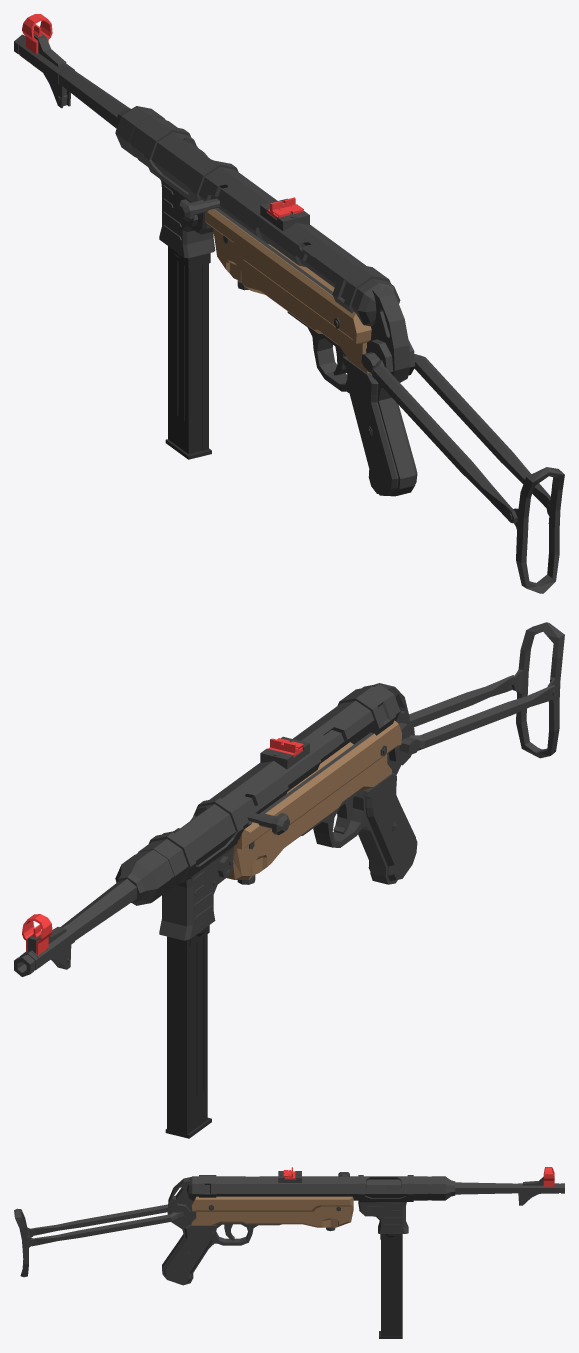
The model's file is subfusil_1.glb.
The picture shows the model from 3 angles, top to bottom: view 1: azimuth 30°, elevation 25°; view 2: azimuth 150°, elevation 25°; view 3: azimuth 270°, elevation 25°; orthographic projection. The views are drawn at different scales.
Parts seen in each view (by area): view 1: p7_paint, p57_mag, p26_accent, p37_paint, p44_paint, p53_paint, p54_paint, p52_paint, p0_paint, p9_paint, p8_paint, p45_paint; view 2: p7_paint, p57_mag, p26_accent, p44_paint, p37_paint, p9_paint, p54_paint, p0_paint, p53_paint, p52_paint, p8_paint, p45_paint (+2 smaller); view 3: p7_paint, p26_accent, p57_mag, p43_paint, p37_paint, p52_paint, p0_paint, p53_paint, p9_paint, p54_paint, p8_paint, p11_paint (+2 smaller).
Boxes of the visible parts, left/top/right/bottom form: p7_paint: left=114, top=106, right=400, bottom=326; p57_mag: left=165, top=246, right=211, bottom=459; p26_accent: left=205, top=209, right=371, bottom=373; p37_paint: left=287, top=285, right=415, bottom=496; p44_paint: left=342, top=356, right=398, bottom=494; p53_paint: left=372, top=359, right=517, bottom=523; p54_paint: left=513, top=467, right=564, bottom=593; p52_paint: left=414, top=354, right=550, bottom=507; p0_paint: left=14, top=34, right=129, bottom=127; p9_paint: left=159, top=179, right=215, bottom=258; p8_paint: left=143, top=126, right=238, bottom=202; p45_paint: left=332, top=264, right=390, bottom=313; p7_paint: left=115, top=684, right=400, bottom=905; p57_mag: left=165, top=925, right=211, bottom=1138; p26_accent: left=227, top=720, right=402, bottom=880; p44_paint: left=362, top=772, right=417, bottom=880; p37_paint: left=301, top=683, right=415, bottom=884; p9_paint: left=159, top=846, right=234, bottom=940; p54_paint: left=511, top=622, right=564, bottom=758; p0_paint: left=14, top=879, right=136, bottom=976; p53_paint: left=409, top=685, right=557, bottom=750; p52_paint: left=409, top=675, right=513, bottom=727; p8_paint: left=148, top=798, right=243, bottom=883; p45_paint: left=337, top=686, right=395, bottom=744; p7_paint: left=187, top=1176, right=455, bottom=1200; p26_accent: left=191, top=1196, right=353, bottom=1227; p57_mag: left=379, top=1234, right=402, bottom=1338; p43_paint: left=163, top=1224, right=217, bottom=1284; p37_paint: left=162, top=1177, right=281, bottom=1285; p52_paint: left=27, top=1212, right=183, bottom=1246; p0_paint: left=455, top=1182, right=564, bottom=1194; p53_paint: left=31, top=1204, right=167, bottom=1235; p9_paint: left=358, top=1202, right=408, bottom=1233; p54_paint: left=14, top=1208, right=34, bottom=1277; p8_paint: left=358, top=1175, right=413, bottom=1201; p11_paint: left=366, top=1179, right=400, bottom=1192.
Size of the model in its own units: 0.0717 by 0.2803 by 0.833.
